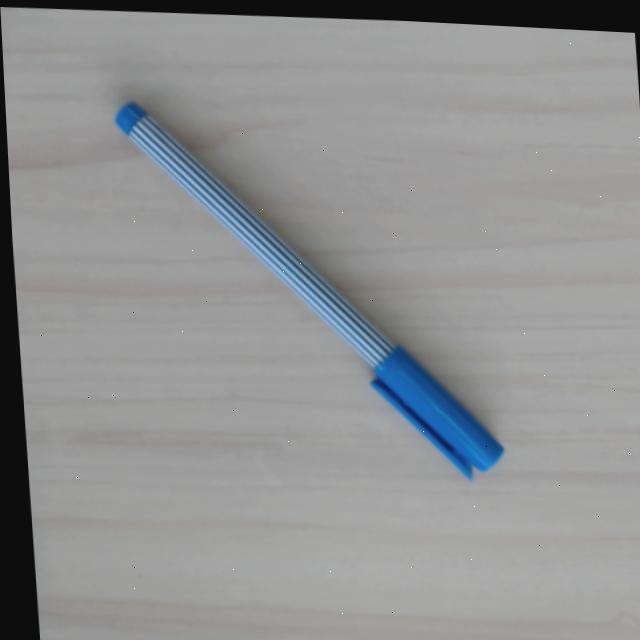Pulpen-Garis-Biru: (102, 89, 507, 484)
